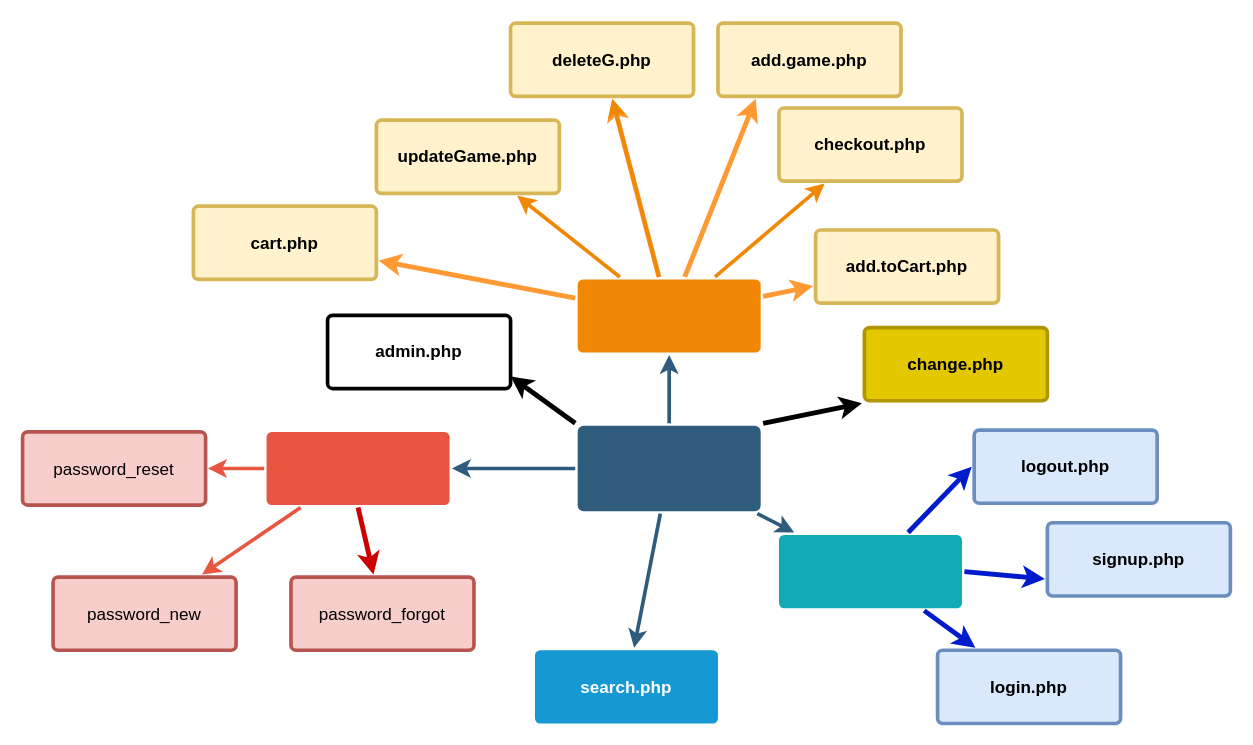
This 1253x745 diagram has some shape labels left out. The centre of each missing label's shape, as x and y in pixels:
"Backend" goes at (x=668, y=468).
"games.php" goes at (x=668, y=315).
"profile.php" goes at (x=357, y=467).
"users.php" goes at (x=869, y=571).
